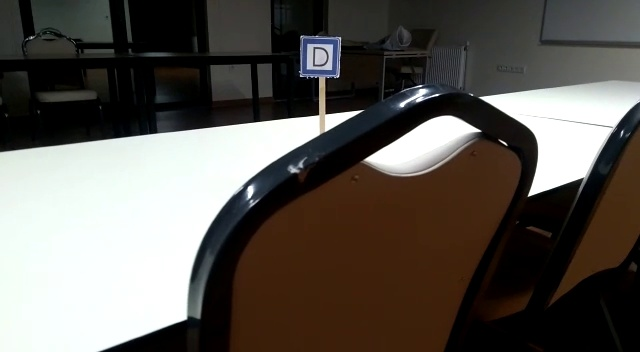durak: (300, 38, 340, 76)
